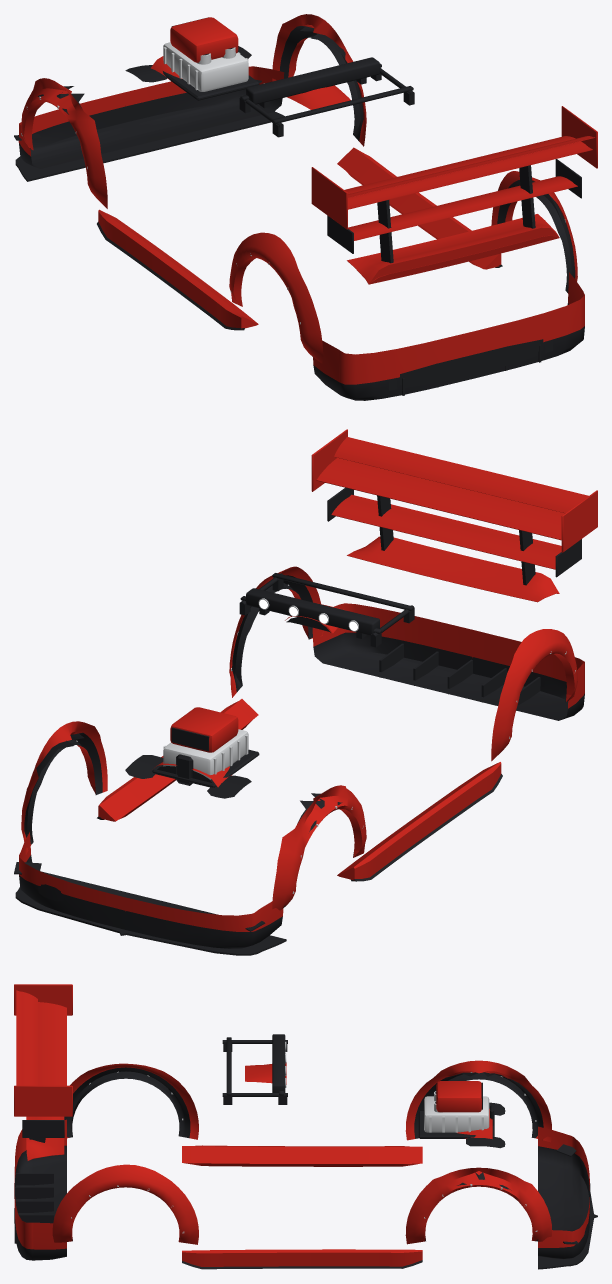
File: sports_car_kit.glb
3 renders of one model, top to bottom at view 1: azimuth 30°, elevation 25°; view 2: azimuth 150°, elevation 25°; view 3: azimuth 270°, elevation 25°, orthographic. The views are drawn at different scales.
Visible parts, largest first — view 1: rear_race, flares_widebody, spoiler_mega, skirts_race, front_sport, front_race, bonnet_blower, spoiler_ducktail, spoiler_wing, flares_overfenders, roof_lights, roof_rack (+4 smaller); view 2: spoiler_mega, rear_sport, flares_widebody, skirts_race, spoiler_wing, front_race, front_sport, spoiler_ducktail, bonnet_blower, flares_overfenders, rear_race, roof_lights (+2 smaller); view 3: flares_widebody, skirts_race, spoiler_mega, front_sport, flares_overfenders, bonnet_blower, rear_race, front_race, rear_sport, roof_rack, spoiler_wing, roof_lights (+3 smaller).
Part boxes in pixels (x1,y1,x2,y2): rear_race: (313,272,584,400); flares_widebody: (21,14,577,363); spoiler_mega: (311,106,597,263); skirts_race: (97,147,502,330); front_sport: (18,83,282,168); front_race: (14,66,284,181); bonnet_blower: (163,17,259,100); spoiler_ducktail: (347,214,559,284); spoiler_wing: (327,159,581,261); flares_overfenders: (21,26,575,356); roof_lights: (246,57,379,108); roof_rack: (239,63,414,137); spoiler_mega: (311,429,597,581); rear_sport: (313,603,584,720); flares_widebody: (21,566,577,910); skirts_race: (97,699,502,881); spoiler_wing: (327,487,581,585); front_race: (14,832,286,955); front_sport: (19,855,283,935); spoiler_ducktail: (347,536,559,602); bonnet_blower: (152,707,259,787); flares_overfenders: (24,575,575,909); rear_race: (312,616,584,719); roof_lights: (246,588,379,638); flares_widebody: (52,1060,551,1244); skirts_race: (182,1145,422,1269); spoiler_mega: (14,984,72,1142); front_sport: (538,1146,590,1249); flares_overfenders: (64,1067,543,1242); bonnet_blower: (418,1081,494,1138); rear_race: (14,1119,66,1260); front_race: (538,1126,597,1269); rear_sport: (14,1129,66,1228); roof_rack: (222,1037,287,1104); spoiler_wing: (22,1116,64,1142); roof_lights: (272,1034,286,1092).
Bounding box in the file's own units: 2.07 × 1.53 × 4.46.
